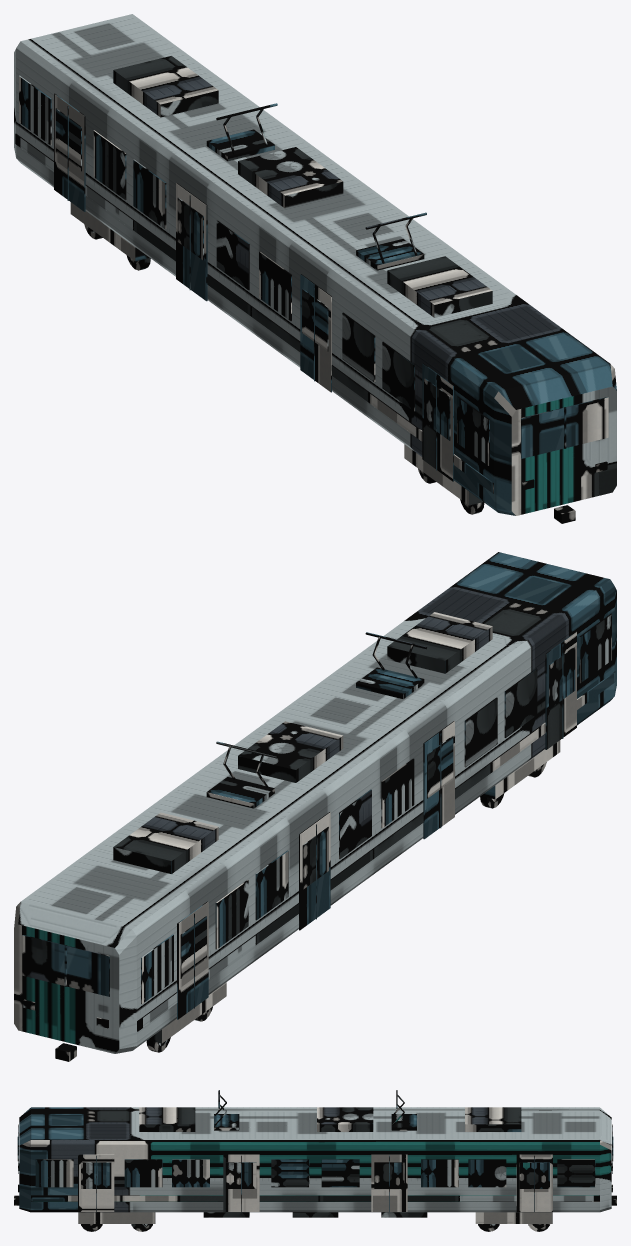
File: commuter_001.obj
3 renders of one model, top to bottom at view 1: azimuth 30°, elevation 25°; view 2: azimuth 150°, elevation 25°; view 3: azimuth 270°, elevation 25°, orthographic. The views are drawn at different scales.
Parts seen in each view (by area): view 1: commuter_001; view 2: commuter_001; view 3: commuter_001.
Part boxes in pixels (x1,y1,x2,y2): commuter_001: (14, 14, 616, 523); commuter_001: (14, 552, 616, 1061); commuter_001: (14, 1090, 616, 1231).
Bounding box in the file's own units: 2.94 × 4.58 × 20.35.
1 material, 1 textured.
